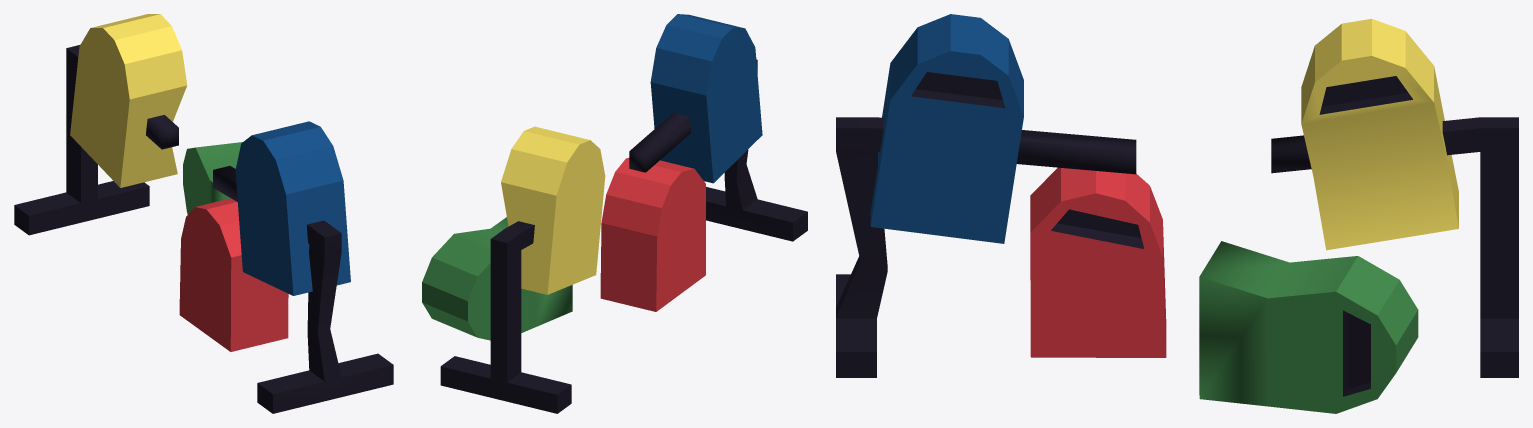
Rendered from LixoReciclavelQuebrado.fbx.
3 renders of one model, left to right at view 1: azimuth 30°, elevation 25°; view 2: azimuth 150°, elevation 25°; view 3: azimuth 270°, elevation 25°, orthographic. The views are drawn at different scales.
Parts seen in each view (by area): view 1: lixo_reciclavel; view 2: lixo_reciclavel; view 3: lixo_reciclavel.
Part boxes in pixels (box(x1,y1,x2,y2)): lixo_reciclavel: box(14, 14, 393, 413); lixo_reciclavel: box(422, 14, 807, 413); lixo_reciclavel: box(836, 14, 1518, 413).
Bounding box in the file's own units: 73.13 × 176 × 87.57.
